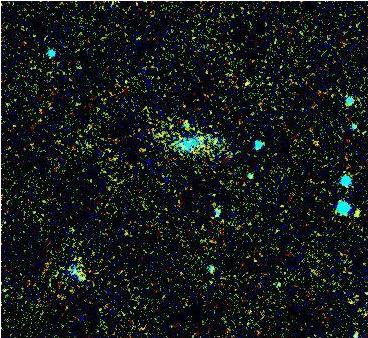star: (343, 199, 368, 229)
